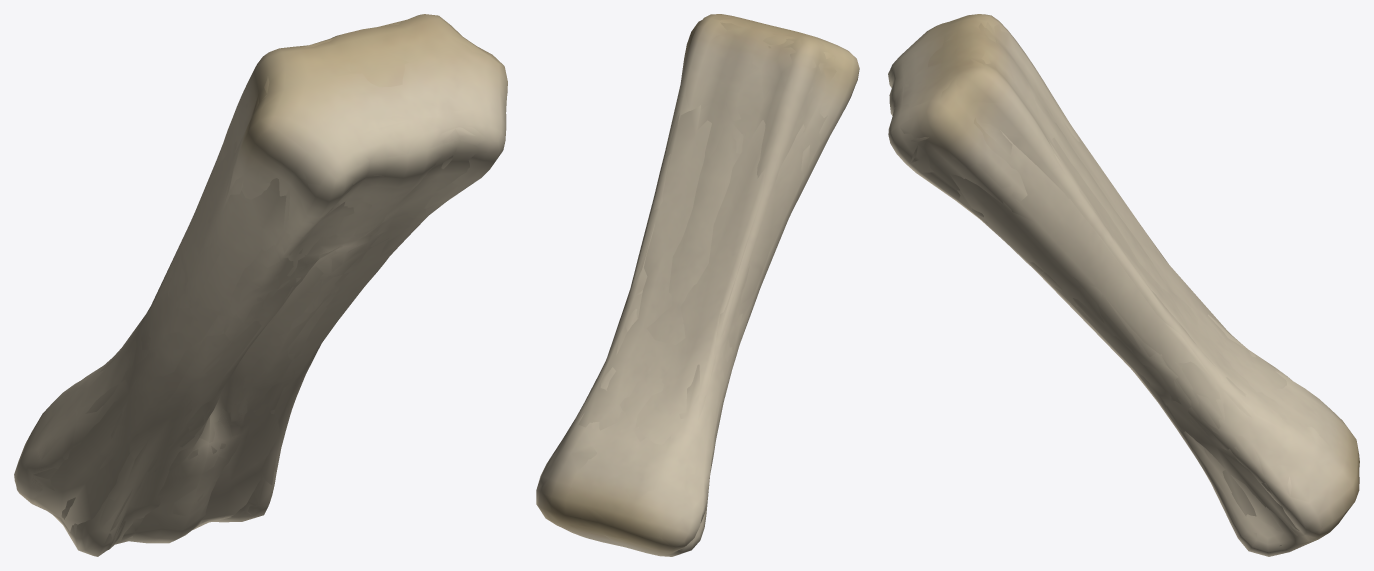
The model's file is vertebrae caudales 11.fbx.
The picture shows the model from 3 angles, left to right: view 1: azimuth 30°, elevation 25°; view 2: azimuth 150°, elevation 25°; view 3: azimuth 270°, elevation 25°; orthographic projection. The views are drawn at different scales.
Parts seen in each view (by area): view 1: vertebrae caudales 11, vertebrae caudales 11 low, vertebrae caudales 11 high; view 2: vertebrae caudales 11, vertebrae caudales 11 low, vertebrae caudales 11 high; view 3: vertebrae caudales 11, vertebrae caudales 11 low, vertebrae caudales 11 high.
Part boxes in pixels (left/top/right/bottom): vertebrae caudales 11: left=14, top=14, right=507, bottom=556; vertebrae caudales 11 low: left=34, top=19, right=478, bottom=542; vertebrae caudales 11 high: left=15, top=14, right=506, bottom=553; vertebrae caudales 11: left=536, top=14, right=859, bottom=556; vertebrae caudales 11 low: left=578, top=22, right=836, bottom=545; vertebrae caudales 11 high: left=537, top=14, right=858, bottom=555; vertebrae caudales 11: left=888, top=14, right=1359, bottom=556; vertebrae caudales 11 low: left=892, top=23, right=1314, bottom=545; vertebrae caudales 11 high: left=889, top=15, right=1359, bottom=556.
Bounding box in the file's own units: 2.14 × 5.26 × 4.59.
Materials: 1 (1 with a texture image).
